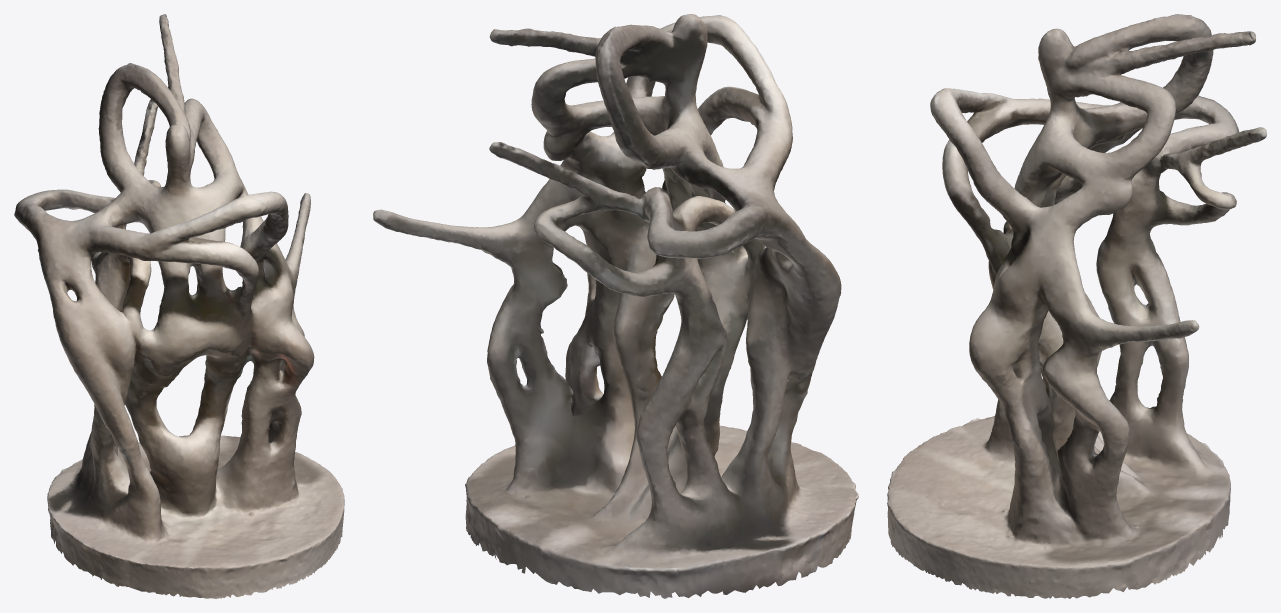
The model's file is preview.glb.
The picture shows the model from 3 angles, left to right: view 1: azimuth 30°, elevation 25°; view 2: azimuth 150°, elevation 25°; view 3: azimuth 270°, elevation 25°; orthographic projection. The views are drawn at different scales.
Parts seen in each view (by area): view 1: Object_2; view 2: Object_2; view 3: Object_2.
Part boxes in pixels (left/top/right/bottom): Object_2: left=14, top=14, right=344, bottom=598; Object_2: left=373, top=14, right=858, bottom=598; Object_2: left=887, top=14, right=1266, bottom=598.
Bounding box in the file's own units: 2.88 × 4.03 × 2.63.
Materials: 1 (1 with a texture image).
